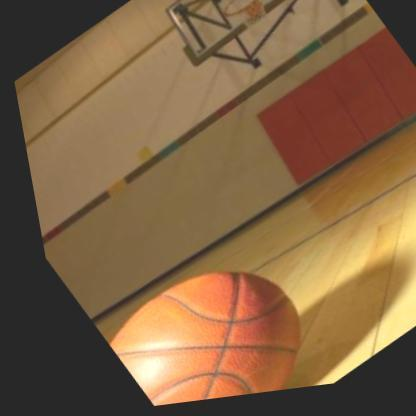basketball: (72, 222, 335, 412)
